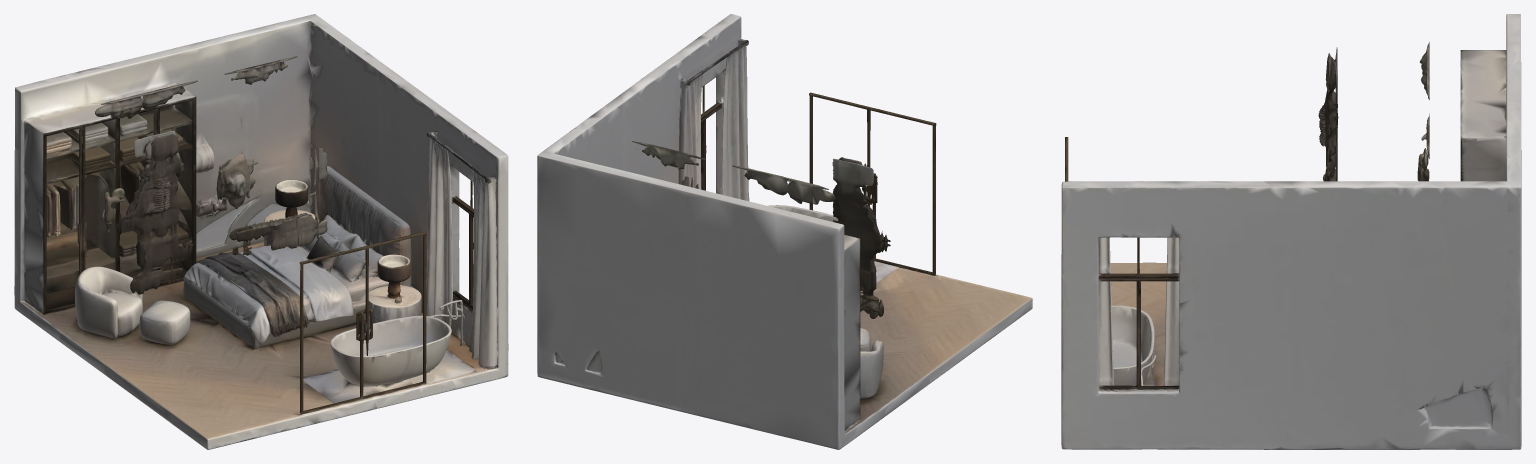
The model's file is chambre.glb.
3 renders of one model, left to right at view 1: azimuth 30°, elevation 25°; view 2: azimuth 150°, elevation 25°; view 3: azimuth 270°, elevation 25°, orthographic. The views are drawn at different scales.
Visible parts, largest first — view 1: tripo_node_44ae5bc9-4053-4402-b02c-40bd2f909451; view 2: tripo_node_44ae5bc9-4053-4402-b02c-40bd2f909451; view 3: tripo_node_44ae5bc9-4053-4402-b02c-40bd2f909451.
Part boxes in pixels (box(x1,y1,x2,y2)): tripo_node_44ae5bc9-4053-4402-b02c-40bd2f909451: box(14, 14, 508, 449); tripo_node_44ae5bc9-4053-4402-b02c-40bd2f909451: box(537, 14, 1032, 449); tripo_node_44ae5bc9-4053-4402-b02c-40bd2f909451: box(1061, 14, 1521, 449).
Size of the model in its own units: 0.8793 by 0.6179 by 0.9805.
Materials: 1 (1 with a texture image).
